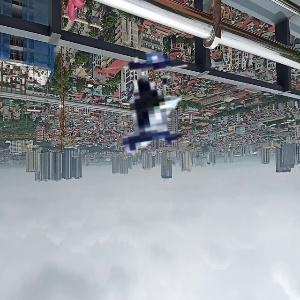drone: (28, 13, 221, 206)
